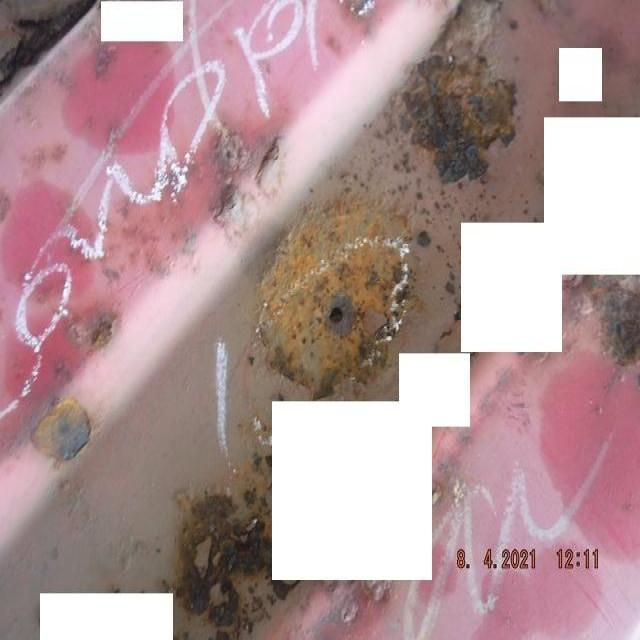rust: (256, 201, 421, 400), (403, 3, 521, 187), (175, 490, 273, 632), (585, 281, 640, 376), (35, 386, 98, 468), (60, 305, 127, 360), (256, 138, 295, 200), (215, 184, 255, 237), (211, 122, 250, 173)
